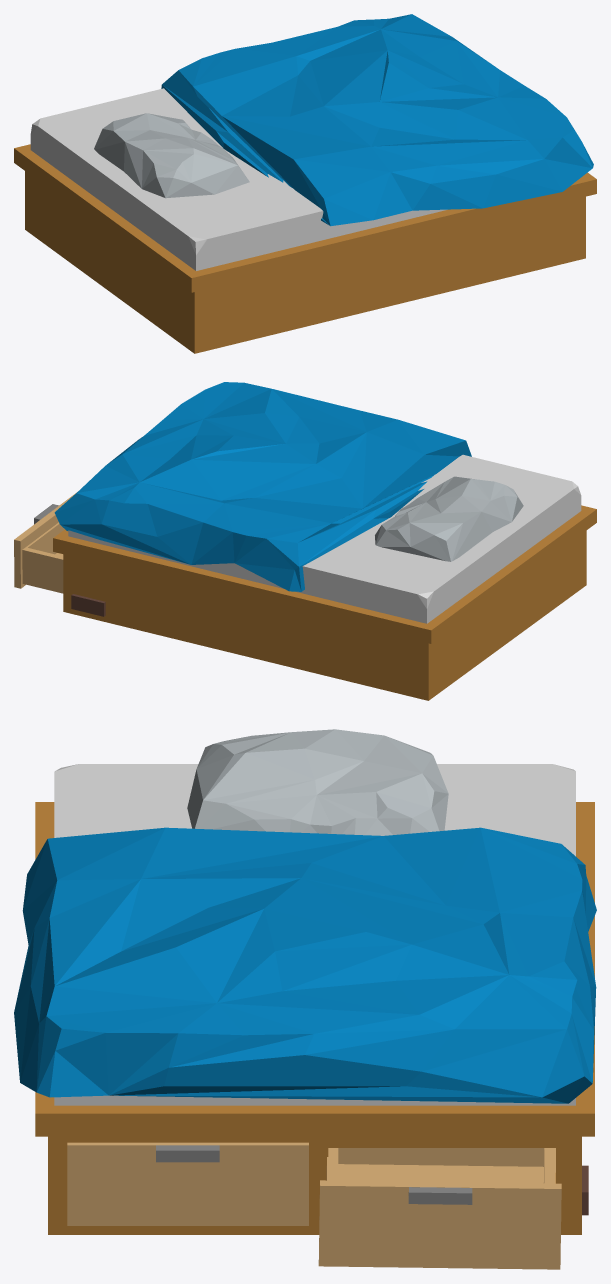
3 renders of one model, top to bottom at view 1: azimuth 30°, elevation 25°; view 2: azimuth 150°, elevation 25°; view 3: azimuth 270°, elevation 25°, orthographic. The views are drawn at different scales.
Parts seen in each view (by area): view 1: node_MeshObject132132864-PolyPaper5; view 2: node_MeshObject132132864-PolyPaper5; view 3: node_MeshObject132132864-PolyPaper5.
Boxes of the visible parts, x1,y1,x2,y2 form: node_MeshObject132132864-PolyPaper5: (14, 14, 596, 353); node_MeshObject132132864-PolyPaper5: (14, 382, 596, 700); node_MeshObject132132864-PolyPaper5: (14, 729, 596, 1269).
Size of the model in its own units: 0.6651 by 0.1987 by 0.4584.
